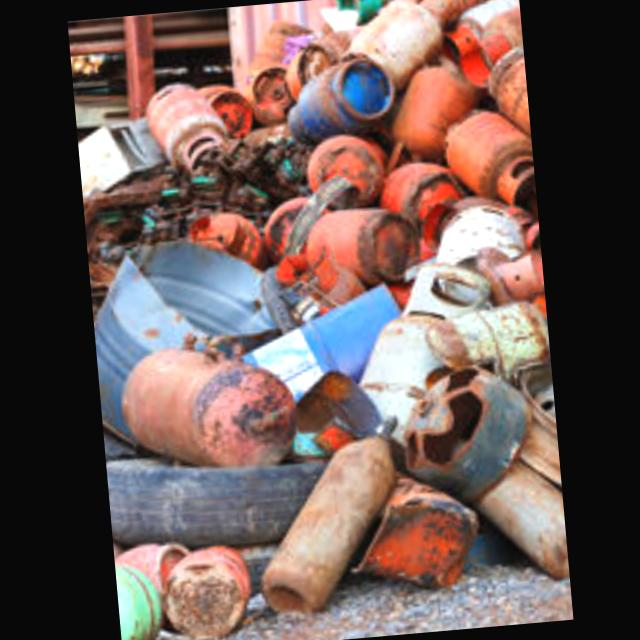Cylinders: (444, 103, 534, 207), (302, 210, 418, 274)
